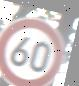Speed Limit -60-: (0, 10, 68, 86)
